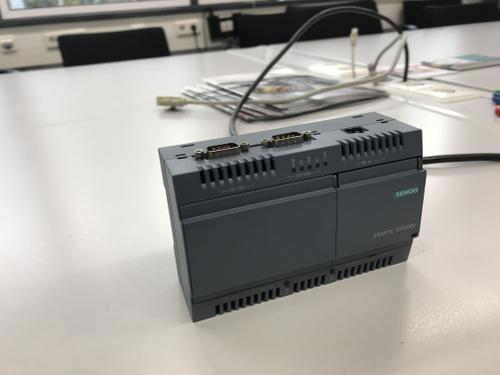device: (158, 111, 428, 324)
